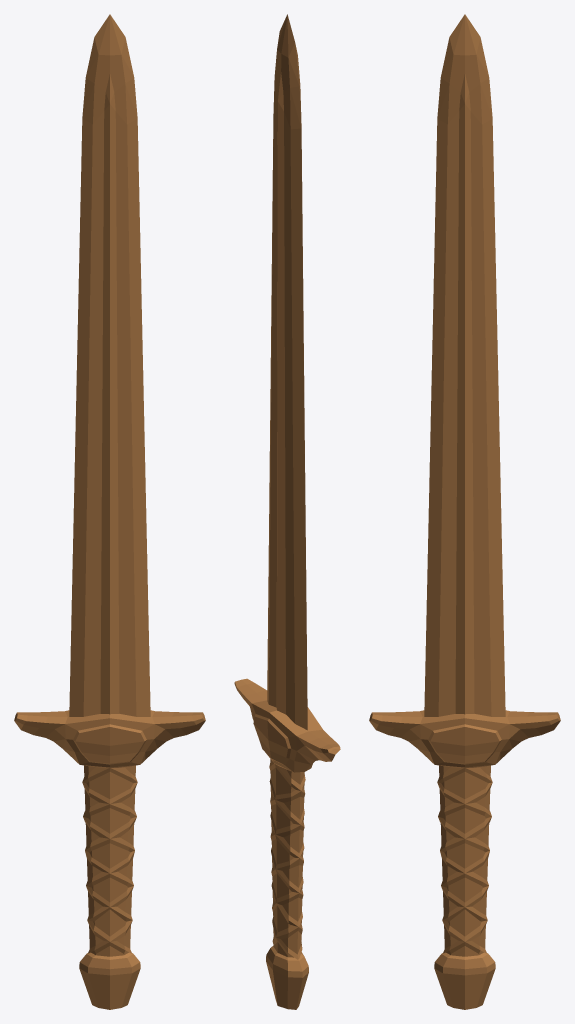
File: Copper_Greatsword.fbx
3 renders of one model, left to right at view 1: azimuth 90°, elevation 25°; view 2: azimuth 210°, elevation 25°; view 3: azimuth 270°, elevation 25°, orthographic.
Parts seen in each view (by area): view 1: Copper_GreatSword; view 2: Copper_GreatSword; view 3: Copper_GreatSword.
Boxes of the visible parts, x1,y1,x2,y2 form: Copper_GreatSword: (14, 14, 205, 1009); Copper_GreatSword: (234, 14, 340, 1009); Copper_GreatSword: (369, 14, 560, 1009).
Bounding box in the file's own units: 0.1969 × 4.64 × 0.8144.
